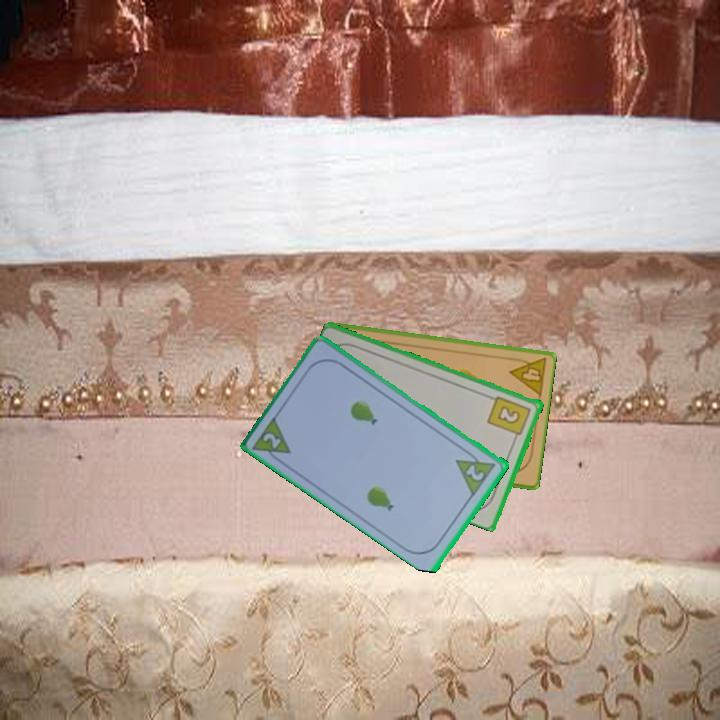2b: (485, 392, 534, 443)
2p: (452, 445, 499, 498), (260, 429, 285, 452)
4p: (506, 353, 549, 399)
